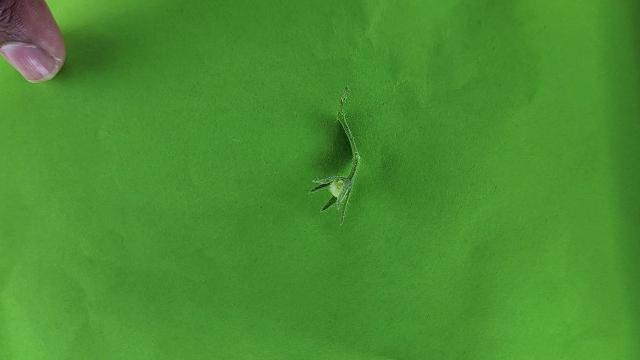Fruit Bud: (308, 172, 354, 218)
